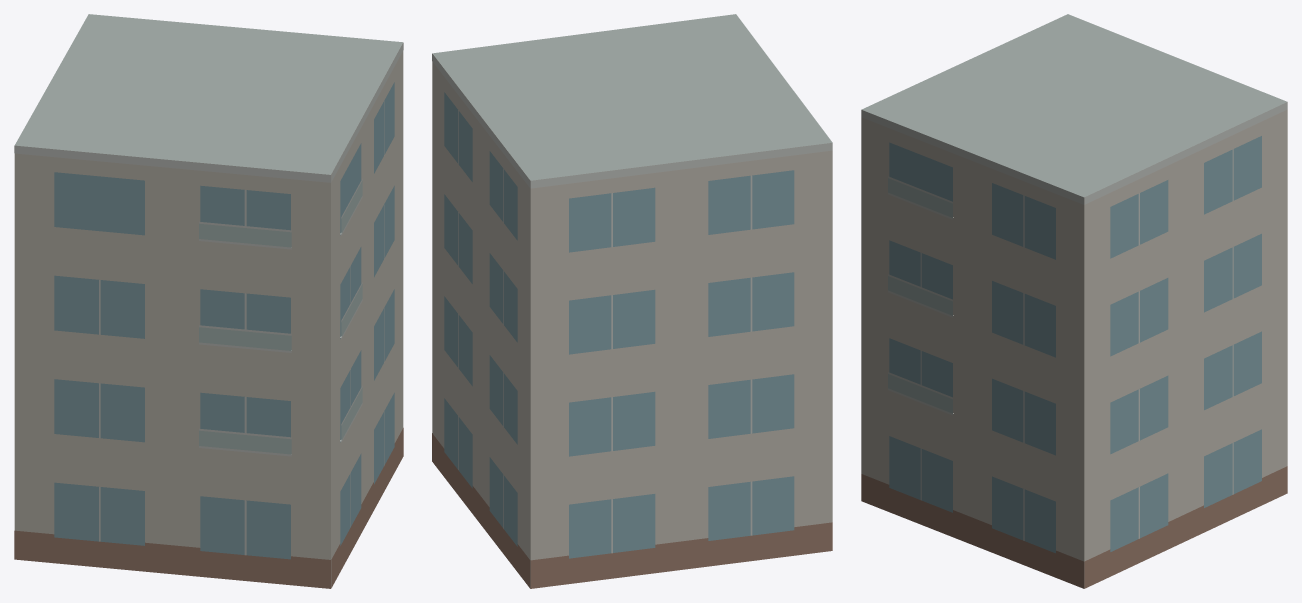
Rendered from survey-upis-32795683.glb.
The picture shows the model from 3 angles, left to right: view 1: azimuth 30°, elevation 25°; view 2: azimuth 150°, elevation 25°; view 3: azimuth 270°, elevation 25°; orthographic projection. The views are drawn at different scales.
Parts seen in each view (by area): view 1: survey-upis-32795683.tmp; view 2: survey-upis-32795683.tmp; view 3: survey-upis-32795683.tmp.
Boxes of the visible parts, x1,y1,x2,y2 form: survey-upis-32795683.tmp: [14, 14, 403, 588]; survey-upis-32795683.tmp: [432, 14, 832, 588]; survey-upis-32795683.tmp: [861, 14, 1287, 588].
Bounding box in the file's own units: 12.77 × 12.7 × 12.55.
